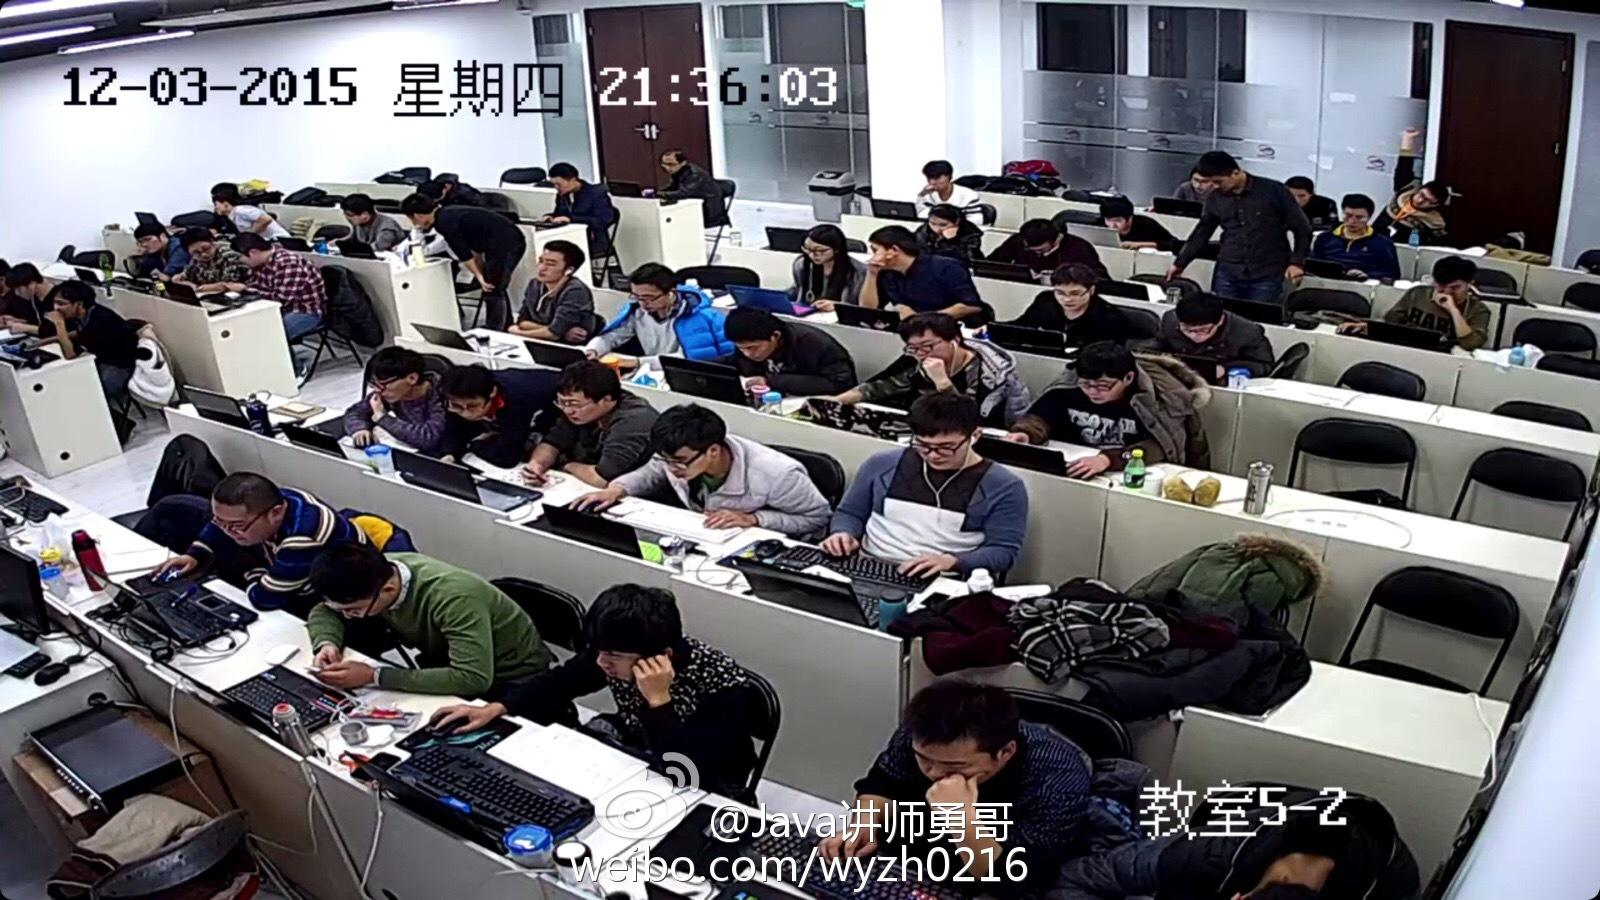person: (857, 393, 1023, 546), (553, 587, 725, 732), (870, 683, 1073, 788), (306, 545, 472, 657), (1182, 151, 1301, 285), (644, 400, 778, 517), (1056, 341, 1182, 452), (865, 311, 1009, 406), (184, 474, 307, 564), (228, 226, 323, 339), (528, 365, 636, 463), (1017, 257, 1121, 340), (608, 259, 709, 338), (349, 348, 443, 430), (506, 235, 592, 316), (715, 305, 821, 370), (1159, 291, 1253, 360), (781, 227, 858, 304), (868, 225, 956, 291), (536, 160, 613, 227), (1392, 164, 1454, 247), (407, 198, 478, 268), (333, 188, 402, 258), (44, 279, 114, 341), (1420, 267, 1486, 331), (1, 252, 64, 318), (651, 146, 719, 205), (176, 228, 228, 284), (127, 220, 175, 275), (204, 187, 263, 231), (179, 230, 227, 279)
